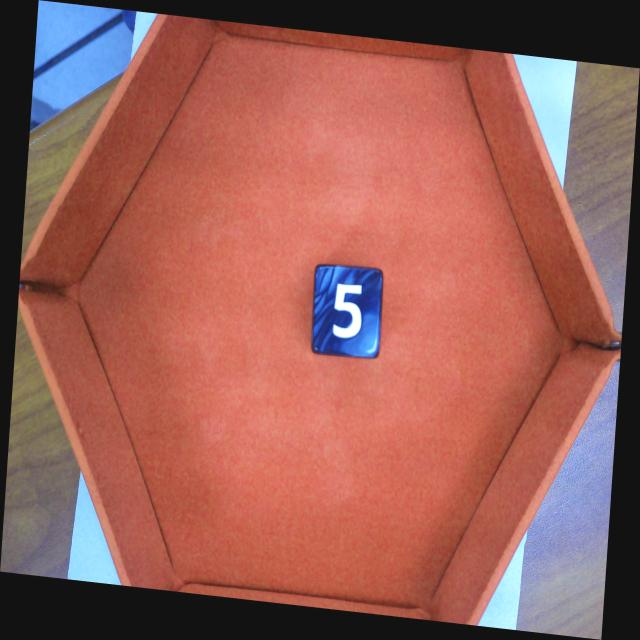dice: (310, 263, 384, 360)
